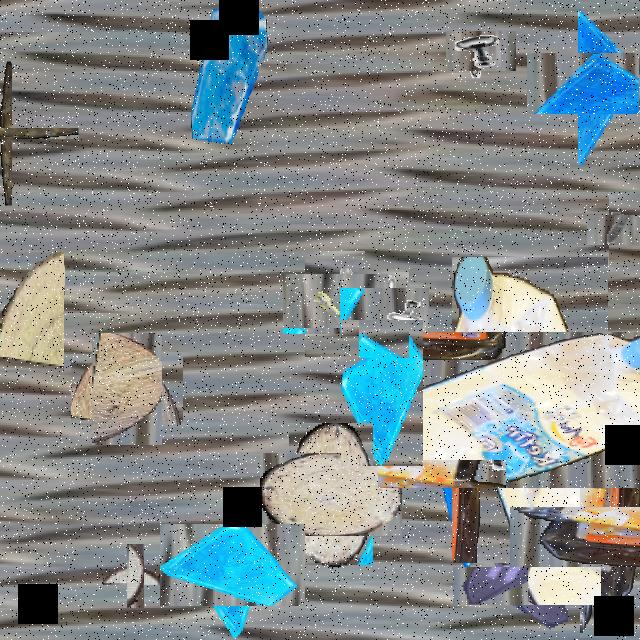glass: (469, 505, 585, 622), (175, 508, 289, 622), (341, 320, 423, 466), (189, 2, 269, 144), (438, 432, 514, 567), (552, 27, 640, 139)
metal: (294, 262, 376, 346), (349, 278, 419, 348), (587, 367, 640, 436), (453, 24, 509, 79), (598, 203, 640, 255)
plastic: (414, 295, 640, 526), (544, 471, 640, 602), (0, 94, 45, 173)
wood: (274, 438, 388, 550), (81, 344, 173, 435), (0, 252, 64, 370), (114, 556, 156, 596)
